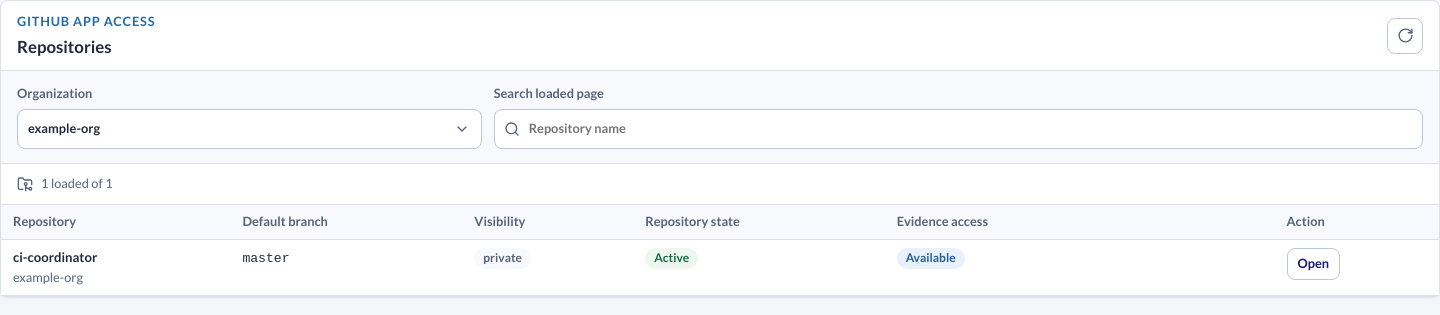
first-page controls use independent continuations: org=false repo=false
The width and height of the screenshot is (1440, 315).
Expected: the text "ci-coordinator" is shown, x1=13 y1=249 x2=97 y2=265
In the search field: (958, 129) x1=494 y1=109 x2=1423 y2=149, type "not-on-this-page"
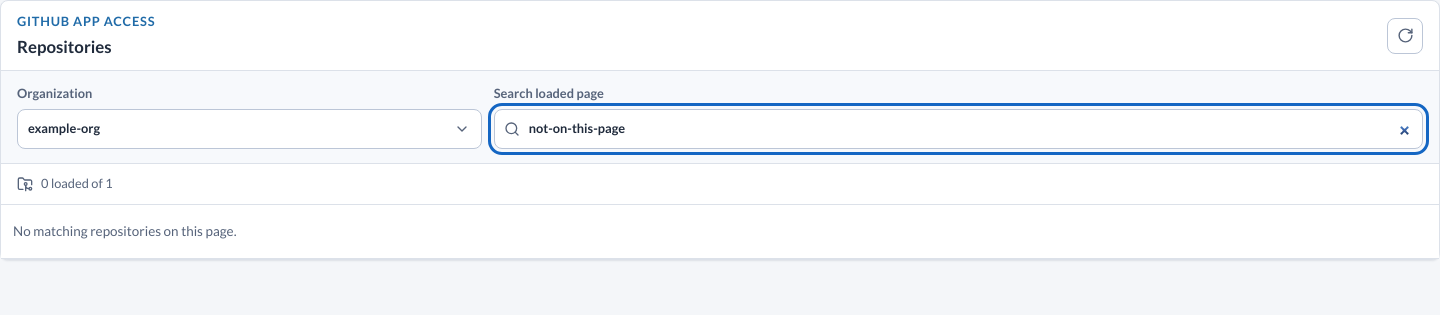
Expected: the text "No matching repositories on this page." is shown, x1=1 y1=205 x2=1439 y2=259
